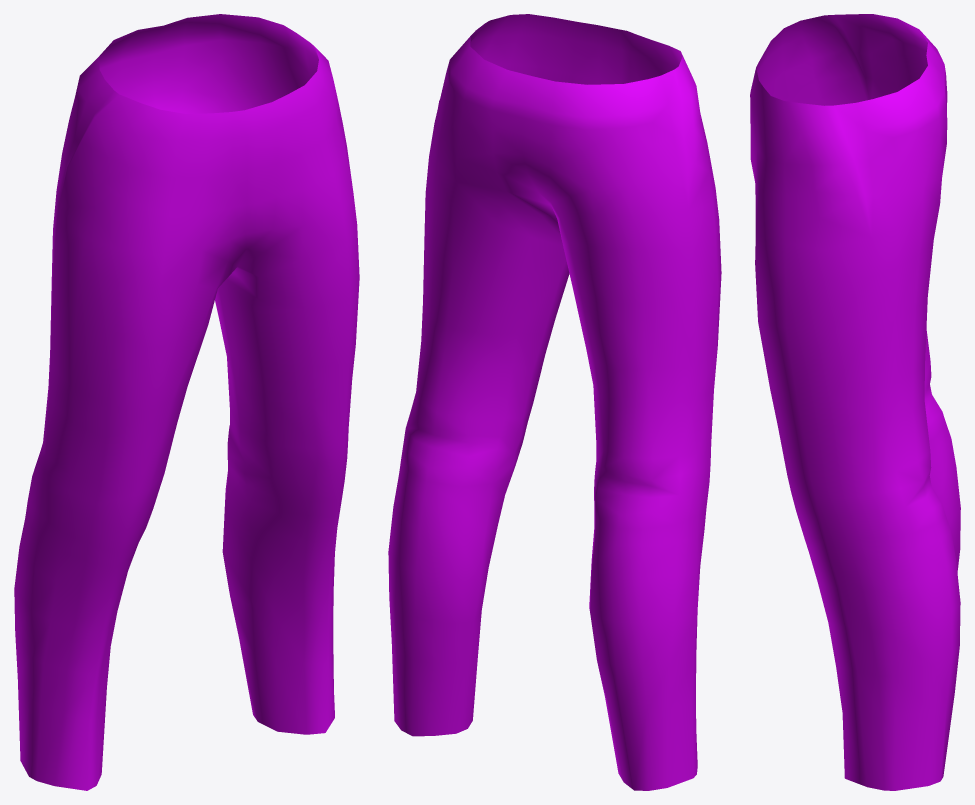
Rendered from pant.glb.
The picture shows the model from 3 angles, left to right: view 1: azimuth 30°, elevation 25°; view 2: azimuth 150°, elevation 25°; view 3: azimuth 270°, elevation 25°; orthographic projection. The views are drawn at different scales.
Visible parts, largest first — view 1: pant; view 2: pant; view 3: pant.
Boxes of the visible parts, x1,y1,x2,y2 form: pant: (14, 14, 359, 790); pant: (388, 14, 721, 790); pant: (750, 14, 960, 790).
Bounding box in the file's own units: 0.3927 × 0.8796 × 0.2497.
